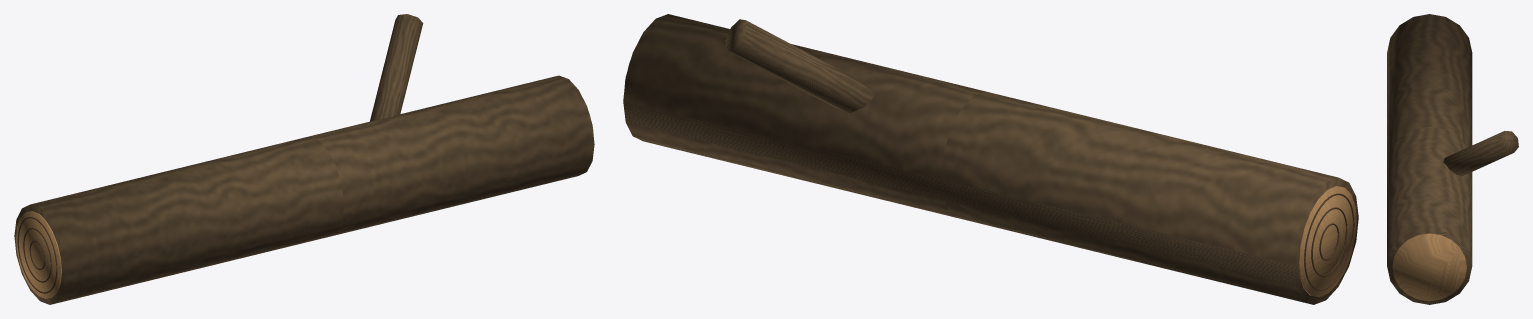
File: fallen_log.glb
3 renders of one model, left to right at view 1: azimuth 30°, elevation 25°; view 2: azimuth 150°, elevation 25°; view 3: azimuth 270°, elevation 25°, orthographic. The views are drawn at different scales.
Visible parts, largest first — view 1: fallen_log_Mesh; view 2: fallen_log_Mesh; view 3: fallen_log_Mesh.
Part boxes in pixels (x1,y1,x2,y2): fallen_log_Mesh: [14, 14, 594, 304]; fallen_log_Mesh: [623, 14, 1358, 304]; fallen_log_Mesh: [1387, 14, 1518, 304].
Size of the model in its own units: 1.92 by 0.5272 by 0.4952.
Materials: 3 (3 with a texture image).
